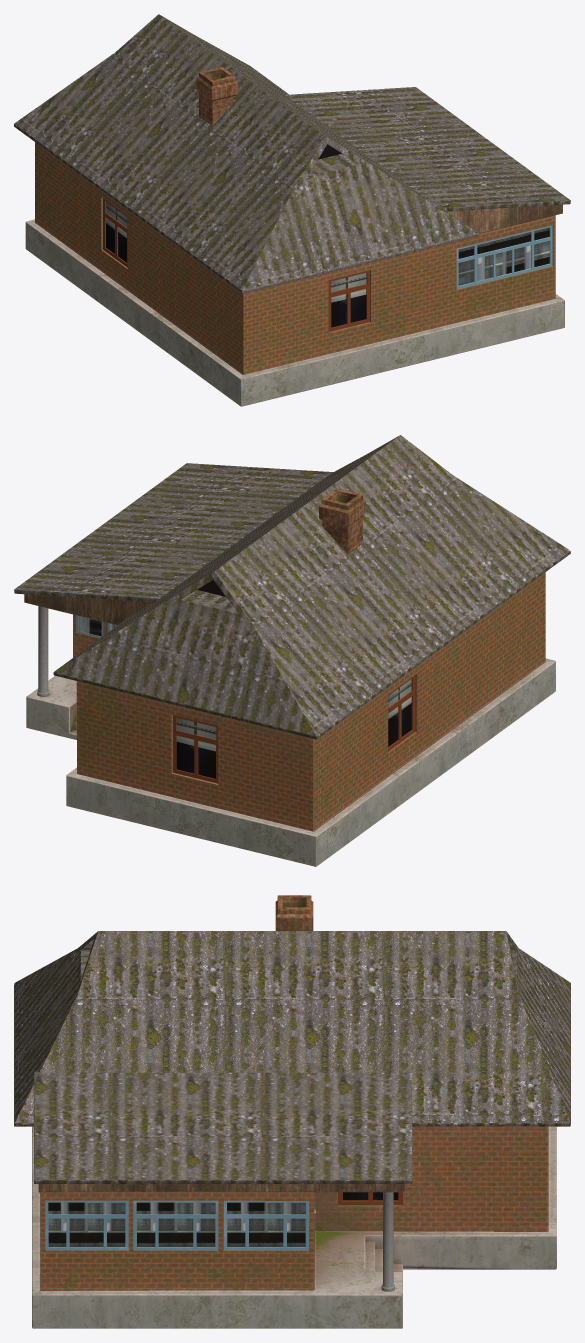
The picture shows the model from 3 angles, top to bottom: view 1: azimuth 30°, elevation 25°; view 2: azimuth 150°, elevation 25°; view 3: azimuth 270°, elevation 25°; orthographic projection. The views are drawn at different scales.
Parts seen in each view (by area): view 1: Roof.001_16, BASE.001_10, Roof 2.001_17, Window terrace 6.002_38, Visor.001_18, flue.001_14, Window terrace 6_21, Window 4.004_32, Window 4.001_20, Window 3.004_30, Window 3.001_19; view 2: Roof.001_16, BASE.001_10, Roof 2.001_17, flue.001_14, Visor.001_18, Window 4.003_31, Window 4.002_28, Window 3.004_30, pipe.001_15, Window 3.001_19; view 3: Roof.001_16, BASE.001_10, Roof 2.001_17, Visor.001_18, Window terrace 4.001_36, Window terrace 3.001_35, Window terrace 5.002_37, Window terrace 4_25, Window terrace 3_22, Window terrace 5_26, flue.001_14, pipe.001_15.
Boxes of the visible parts, left/top/right/bottom form: Roof.001_16: left=14, top=14, right=478, bottom=293; BASE.001_10: left=25, top=142, right=564, bottom=406; Roof 2.001_17: left=285, top=87, right=570, bottom=211; Window terrace 6.002_38: left=458, top=227, right=549, bottom=285; Visor.001_18: left=446, top=204, right=562, bottom=233; flue.001_14: left=196, top=67, right=238, bottom=125; Window terrace 6_21: left=456, top=225, right=552, bottom=289; Window 4.004_32: left=331, top=273, right=366, bottom=327; Window 4.001_20: left=328, top=270, right=369, bottom=331; Window 3.004_30: left=106, top=202, right=127, bottom=262; Window 3.001_19: left=103, top=198, right=127, bottom=267; Roof.001_16: left=53, top=435, right=570, bottom=739; BASE.001_10: left=26, top=572, right=555, bottom=866; Roof 2.001_17: left=14, top=463, right=333, bottom=601; flue.001_14: left=319, top=488, right=365, bottom=554; Visor.001_18: left=24, top=594, right=152, bottom=625; Window 4.003_31: left=176, top=717, right=216, bottom=778; Window 4.002_28: left=173, top=715, right=218, bottom=783; Window 3.004_30: left=388, top=679, right=411, bottom=746; pipe.001_15: left=37, top=606, right=49, bottom=696; Window 3.001_19: left=388, top=675, right=414, bottom=751; Roof.001_16: left=14, top=931, right=570, bottom=1126; BASE.001_10: left=32, top=1126, right=556, bottom=1328; Roof 2.001_17: left=34, top=1071, right=412, bottom=1183; Visor.001_18: left=38, top=1184, right=404, bottom=1192; Window terrace 4.001_36: left=136, top=1202, right=215, bottom=1246; Window terrace 3.001_35: left=227, top=1202, right=305, bottom=1246; Window terrace 5.002_37: left=48, top=1202, right=125, bottom=1246; Window terrace 4_25: left=133, top=1200, right=218, bottom=1250; Window terrace 3_22: left=223, top=1200, right=309, bottom=1250; Window terrace 5_26: left=45, top=1200, right=128, bottom=1250; flue.001_14: left=275, top=895, right=313, bottom=930; pipe.001_15: left=381, top=1192, right=394, bottom=1291.
Size of the model in its own units: 4.75 by 3.14 by 5.58.
Materials: 13 (9 with a texture image).
